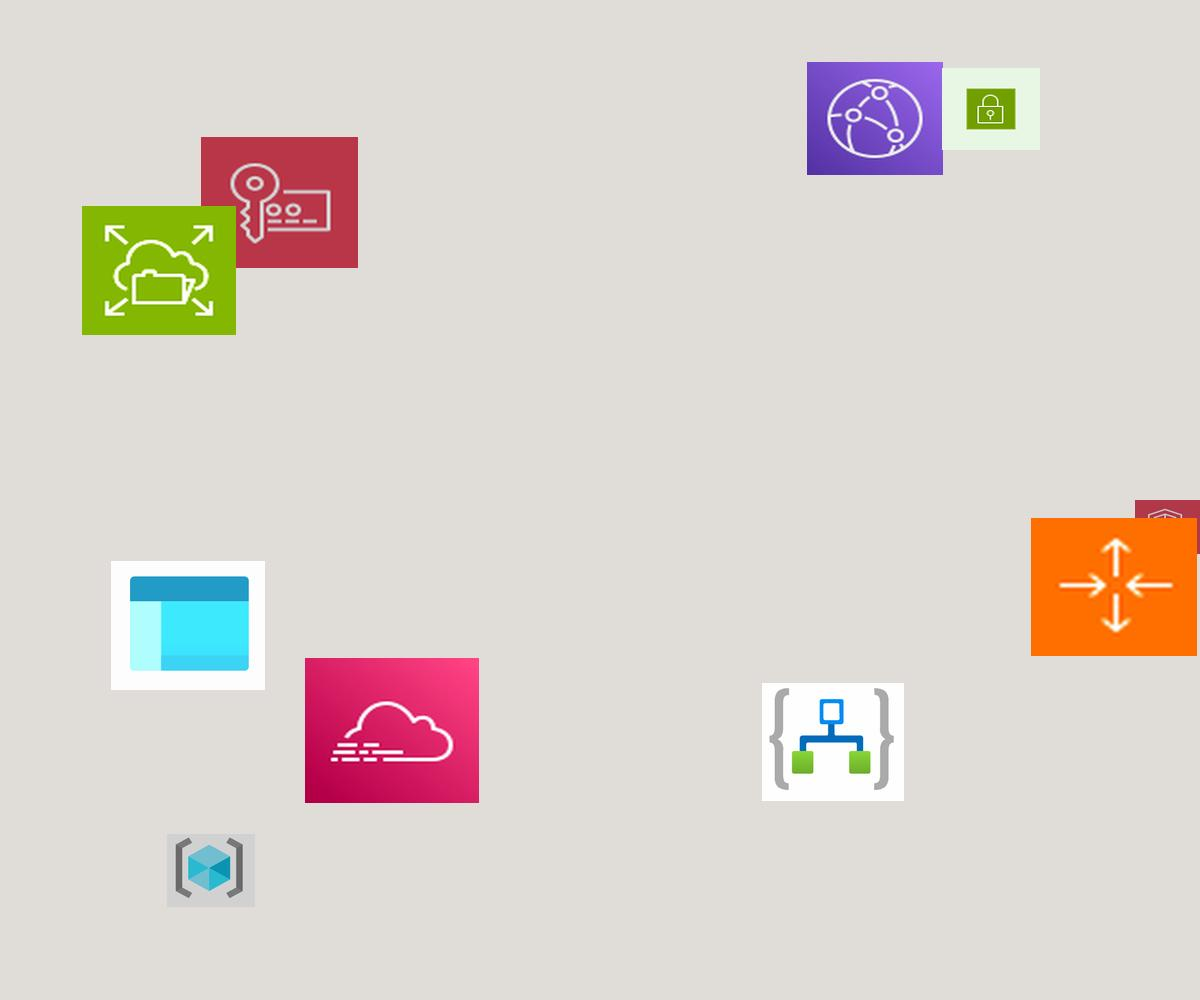AWS-CloudFront: (807, 62, 943, 175)
AWS-CloudTrail: (305, 658, 479, 803)
AWS-EFS: (82, 206, 236, 335)
AWS-Key-Management-Service: (201, 137, 358, 268)
AWS-Public-subnet: (942, 68, 1040, 150)
AWS-Scaling-group: (1031, 518, 1197, 656)
AWS-Shield: (1135, 500, 1200, 554)
Azure_integration-204-Logic-Apps: (762, 683, 904, 801)
Azure_management-portal: (111, 561, 265, 690)
Azure_resource_group: (167, 834, 255, 907)
